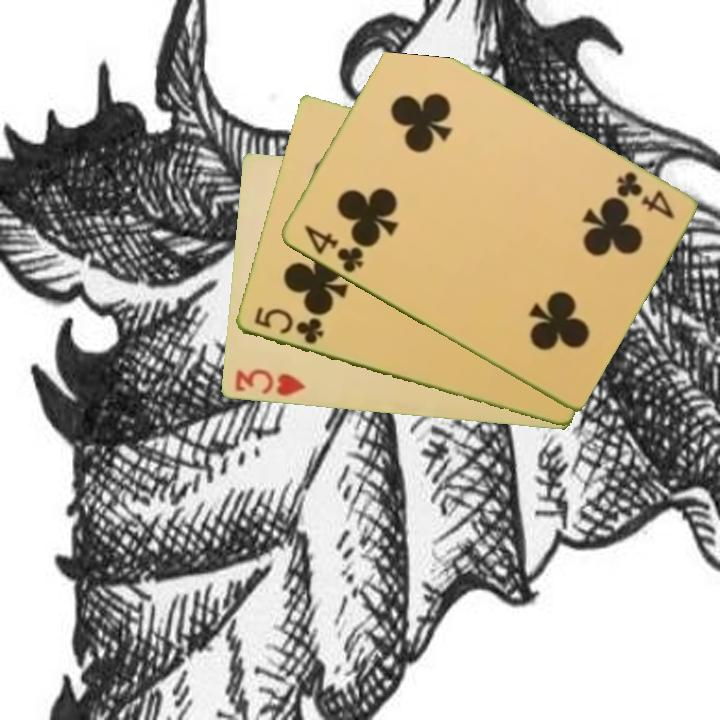3h: (231, 366, 308, 400)
4c: (300, 221, 366, 276), (612, 168, 678, 223)
5c: (250, 304, 326, 348)
